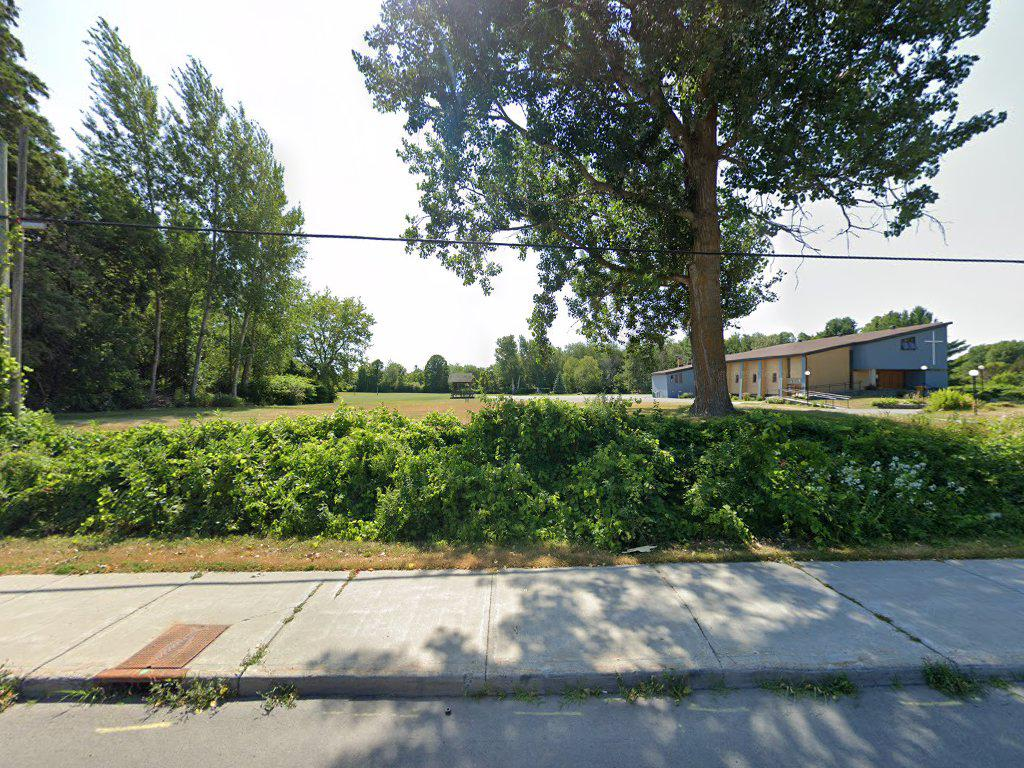trunk: (680, 155, 739, 439)
